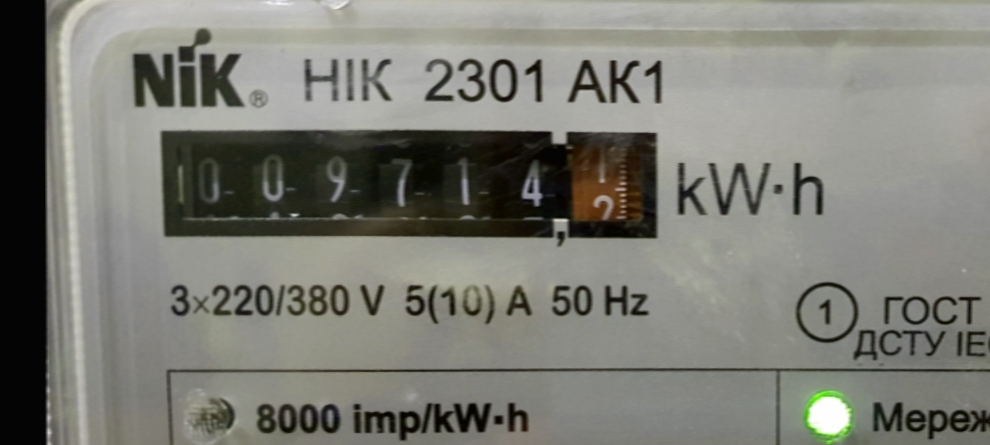0: (195, 155, 224, 209), (259, 152, 286, 205)
1: (453, 154, 476, 209), (594, 145, 609, 187)
2: (592, 193, 616, 223)
4: (518, 158, 547, 212)
7: (389, 157, 415, 211)
9: (322, 154, 350, 207)
screen: (146, 115, 675, 260)
